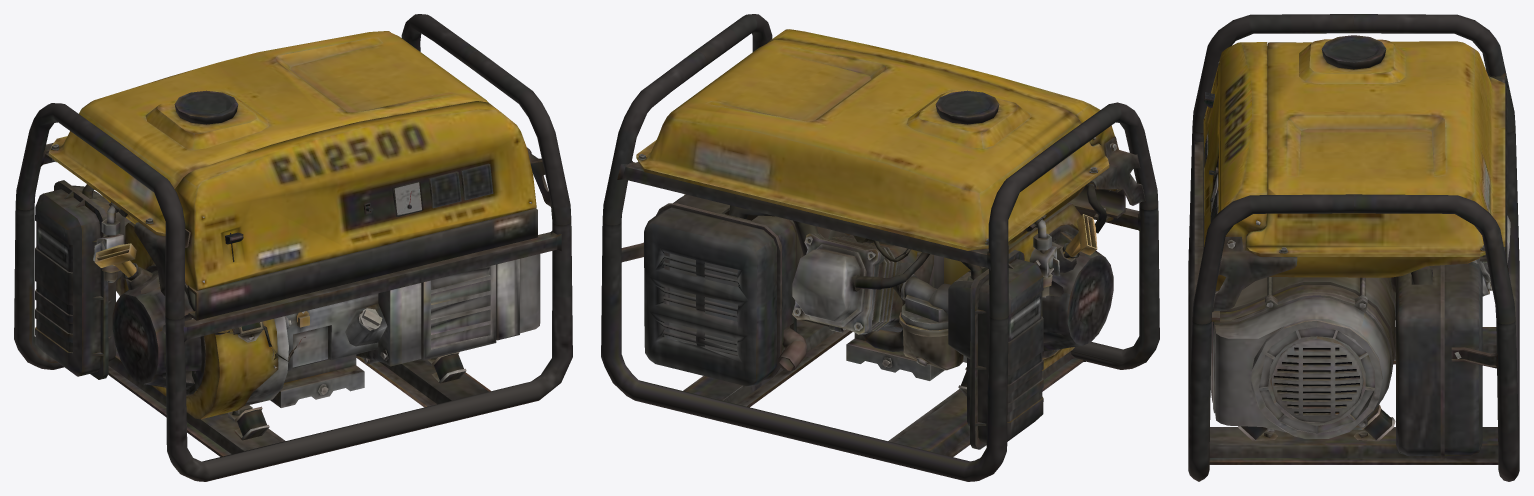
Rendered from portable_generator.glb.
3 renders of one model, left to right at view 1: azimuth 30°, elevation 25°; view 2: azimuth 150°, elevation 25°; view 3: azimuth 270°, elevation 25°, orthographic.
Parts seen in each view (by area): view 1: portable_generator; view 2: portable_generator; view 3: portable_generator.
Part boxes in pixels (box(x1,y1,x2,y2)): portable_generator: box(14, 14, 572, 481); portable_generator: box(601, 14, 1159, 481); portable_generator: box(1188, 14, 1519, 481).
Bounding box in the file's own units: 0.8169 × 0.5752 × 0.564.
2 materials, 2 textured.
